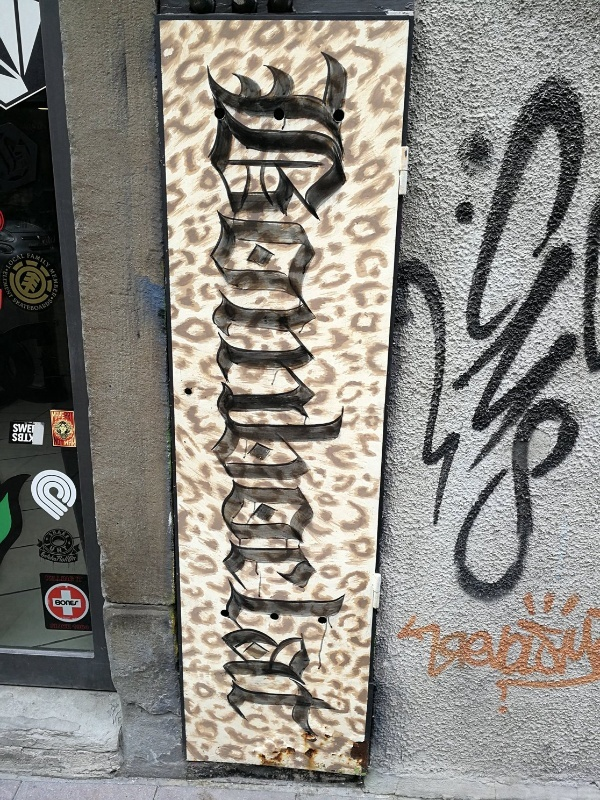text: (209, 47, 224, 748), (225, 47, 240, 748), (241, 47, 256, 748), (257, 47, 272, 748), (273, 47, 288, 748), (289, 47, 304, 748), (305, 47, 320, 748), (321, 47, 336, 748), (337, 47, 352, 748), (465, 53, 480, 626), (481, 53, 496, 626), (497, 53, 512, 626), (513, 53, 528, 626), (529, 53, 544, 626), (545, 53, 560, 626), (561, 53, 576, 626), (577, 53, 592, 626), (451, 53, 464, 626), (593, 53, 599, 626), (204, 47, 208, 748), (401, 580, 416, 721), (417, 580, 432, 721), (433, 580, 448, 721), (449, 580, 464, 721), (465, 580, 480, 721), (481, 580, 496, 721), (497, 580, 512, 721), (513, 580, 528, 721), (529, 580, 544, 721), (545, 580, 560, 721), (561, 580, 576, 721), (577, 580, 592, 721), (65, 452, 80, 531), (393, 580, 400, 721), (49, 577, 64, 636), (65, 577, 80, 636), (53, 452, 64, 531), (593, 580, 599, 721), (65, 520, 81, 570), (49, 520, 64, 570), (353, 47, 354, 748), (49, 407, 64, 452), (65, 407, 77, 452), (49, 267, 64, 303), (81, 577, 90, 636), (17, 420, 32, 452), (1, 271, 16, 303), (33, 420, 46, 452), (41, 520, 48, 570), (17, 296, 32, 319), (33, 296, 48, 319), (33, 249, 48, 269), (6, 249, 16, 271), (17, 249, 25, 271), (49, 296, 56, 319), (11, 420, 16, 452), (46, 577, 48, 636), (27, 249, 32, 269), (81, 452, 82, 531), (14, 296, 16, 319), (49, 249, 51, 269)
